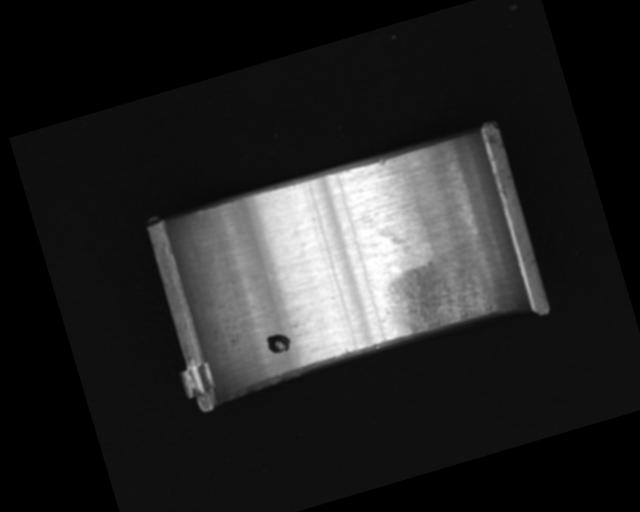blot: (264, 330, 293, 357)
bruise: (377, 156, 388, 168)
scratch: (373, 244, 501, 342)
